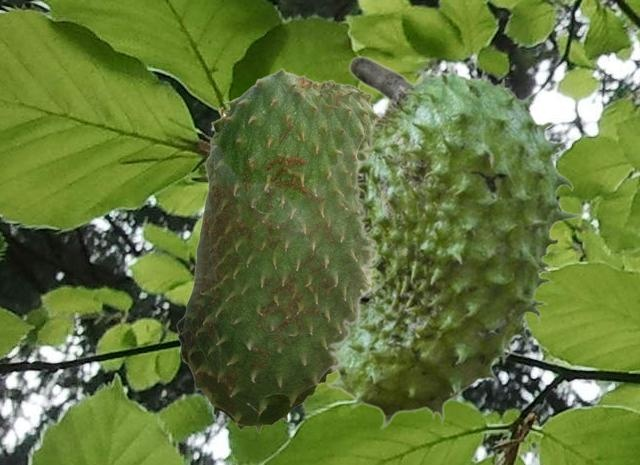guyabano: (324, 55, 582, 429), (174, 67, 376, 432)
